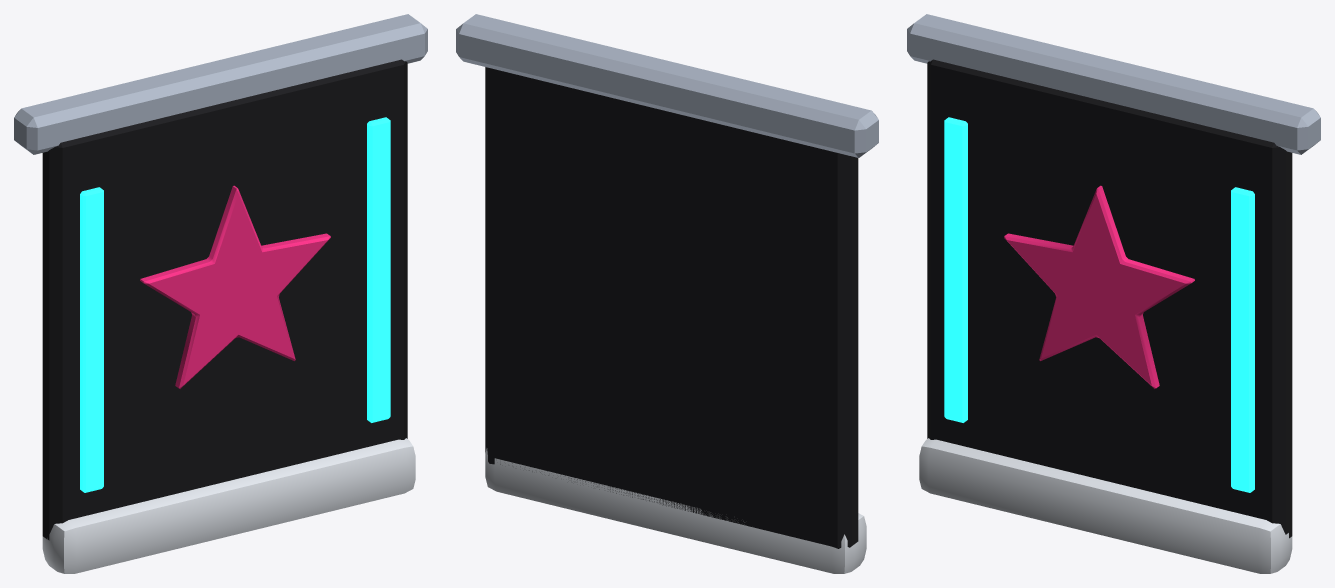
Rendered from mudflap_designed.glb.
3 views of the same model, side by side, from view 1: azimuth 30°, elevation 25°; view 2: azimuth 150°, elevation 25°; view 3: azimuth 330°, elevation 25° (orthographic). The views are drawn at different scales.
Parts seen in each view (by area): view 1: rubber, chrome, steel, paint_pink, lamp_cyan; view 2: rubber, steel, chrome; view 3: rubber, chrome, steel, paint_pink, lamp_cyan.
Part boxes in pixels (x1,y1,x2,y2): rubber: (42,59,407,540); chrome: (42,438,415,573); steel: (14,14,427,154); paint_pink: (140,185,330,388); lamp_cyan: (80,117,390,492); rubber: (485,67,858,548); steel: (456,14,878,157); chrome: (485,448,866,573); rubber: (927,59,1292,538); chrome: (919,438,1292,573); steel: (907,14,1320,154); paint_pink: (1004,185,1194,388); lamp_cyan: (944,117,1254,492).
Bounding box in the file's own units: 0.56 × 0.61 × 0.075.
